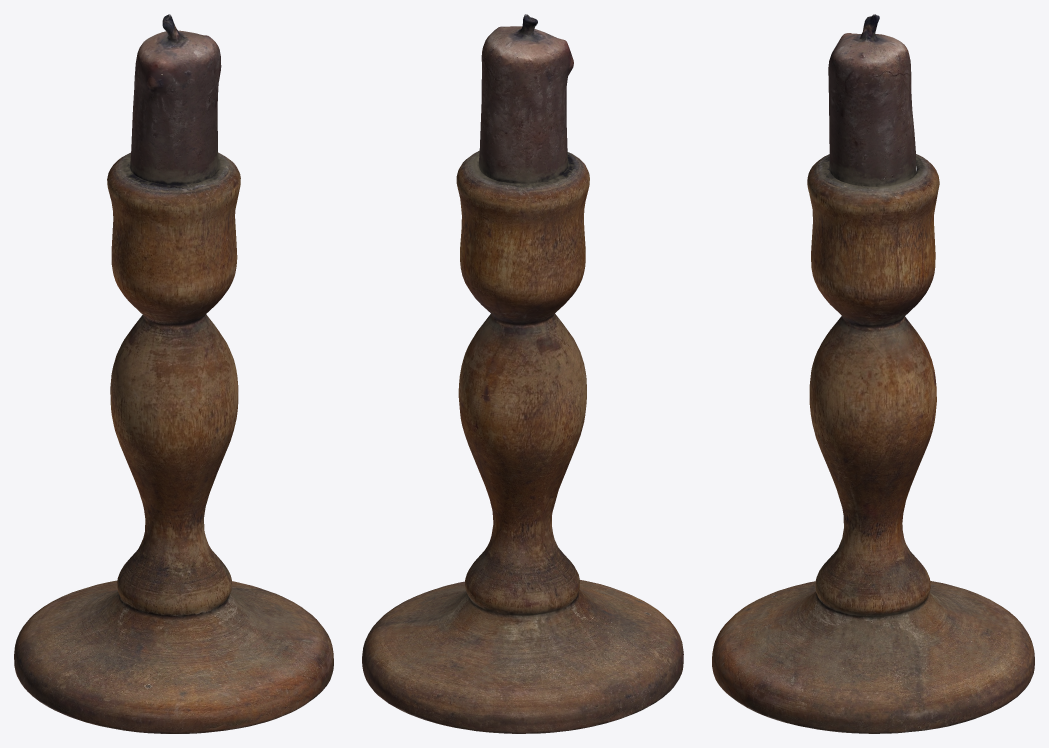
Rendered from wooden_candlestick.glb.
3 views of the same model, side by side, from view 1: azimuth 30°, elevation 25°; view 2: azimuth 150°, elevation 25°; view 3: azimuth 270°, elevation 25° (orthographic).
Parts seen in each view (by area): view 1: wooden_candlestick; view 2: wooden_candlestick; view 3: wooden_candlestick.
Boxes of the visible parts, x1=… form: wooden_candlestick: x1=14, y1=14, x2=333, y2=733; wooden_candlestick: x1=362, y1=14, x2=683, y2=733; wooden_candlestick: x1=712, y1=14, x2=1034, y2=733.
Size of the model in its own units: 0.0972 by 0.2196 by 0.0986.
Materials: 1 (1 with a texture image).
